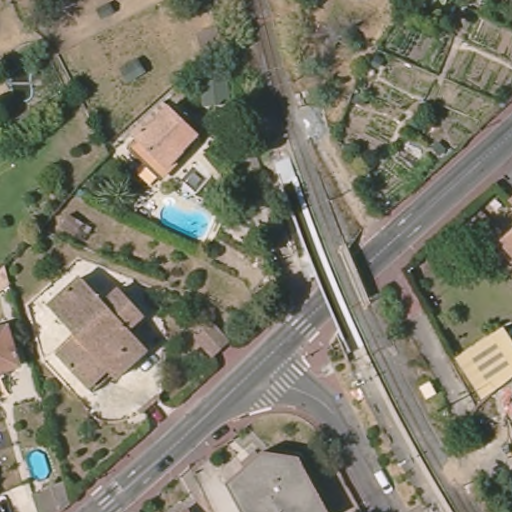pool: (154, 199, 215, 239), (25, 447, 55, 482)
